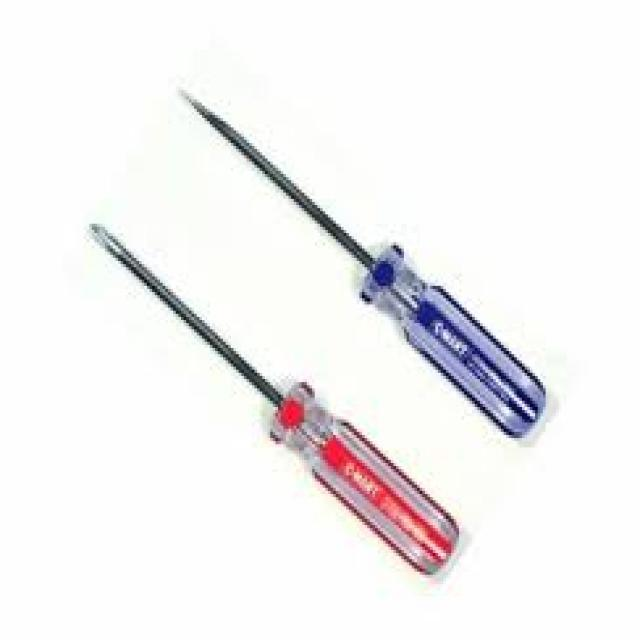screwdriver: (173, 82, 546, 446), (86, 220, 462, 578)
